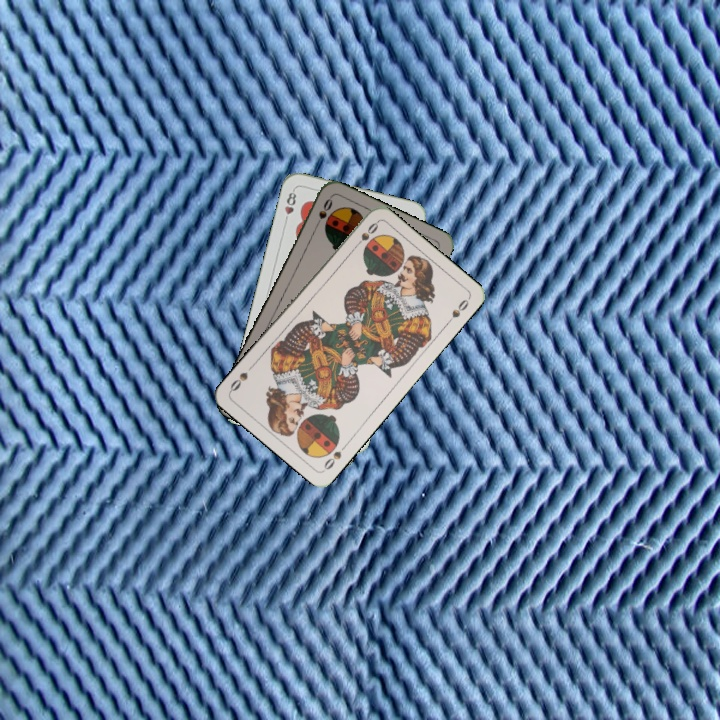H8: (280, 186, 299, 226)
SO: (350, 218, 381, 252), (320, 439, 350, 472), (310, 194, 335, 232)
